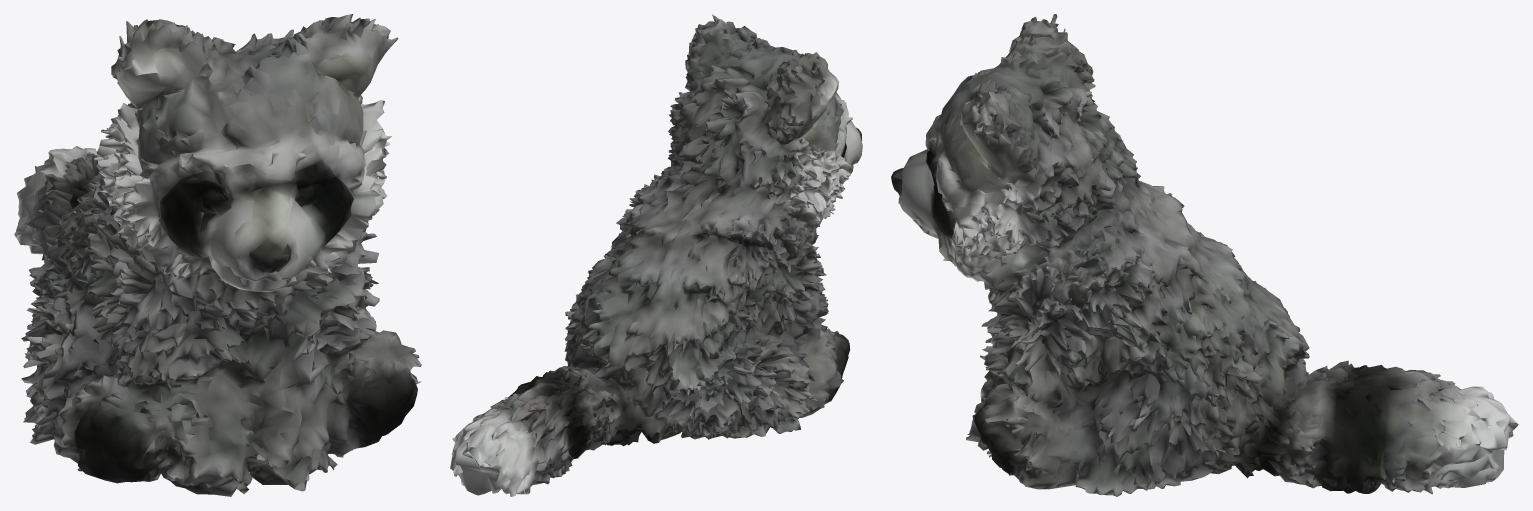
File: Racoon-high.glb
The picture shows the model from 3 angles, left to right: view 1: azimuth 30°, elevation 25°; view 2: azimuth 150°, elevation 25°; view 3: azimuth 270°, elevation 25°; orthographic projection. The views are drawn at different scales.
Visible parts, largest first — view 1: Racoon; view 2: Racoon; view 3: Racoon.
Part boxes in pixels (left/top/right/bottom): Racoon: left=14, top=14, right=421, bottom=496; Racoon: left=450, top=14, right=862, bottom=496; Racoon: left=891, top=14, right=1518, bottom=496.
Size of the model in its own units: 0.1525 by 0.211 by 0.3149.
Materials: 1 (1 with a texture image).
